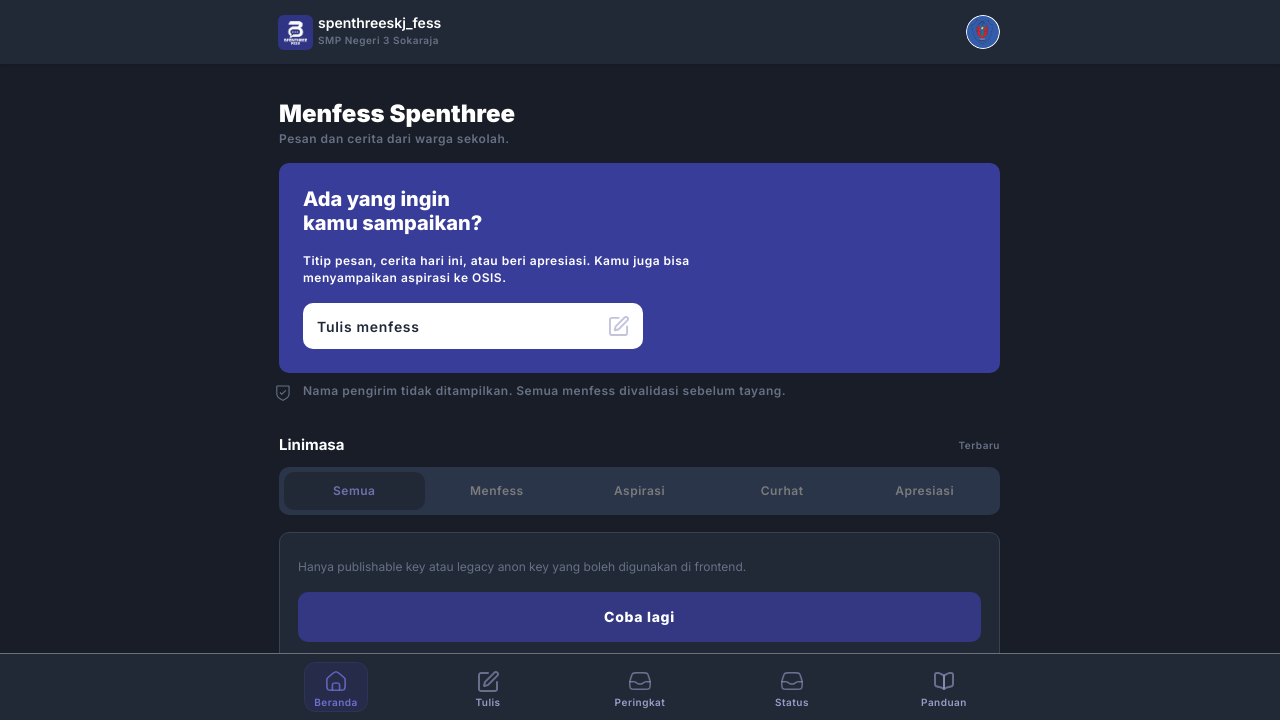
it: foundation routes › navigates using the primary links
This screenshot has width=1280, height=720.
Click the link to "/write" at [488, 689], box [475,670,501,708]
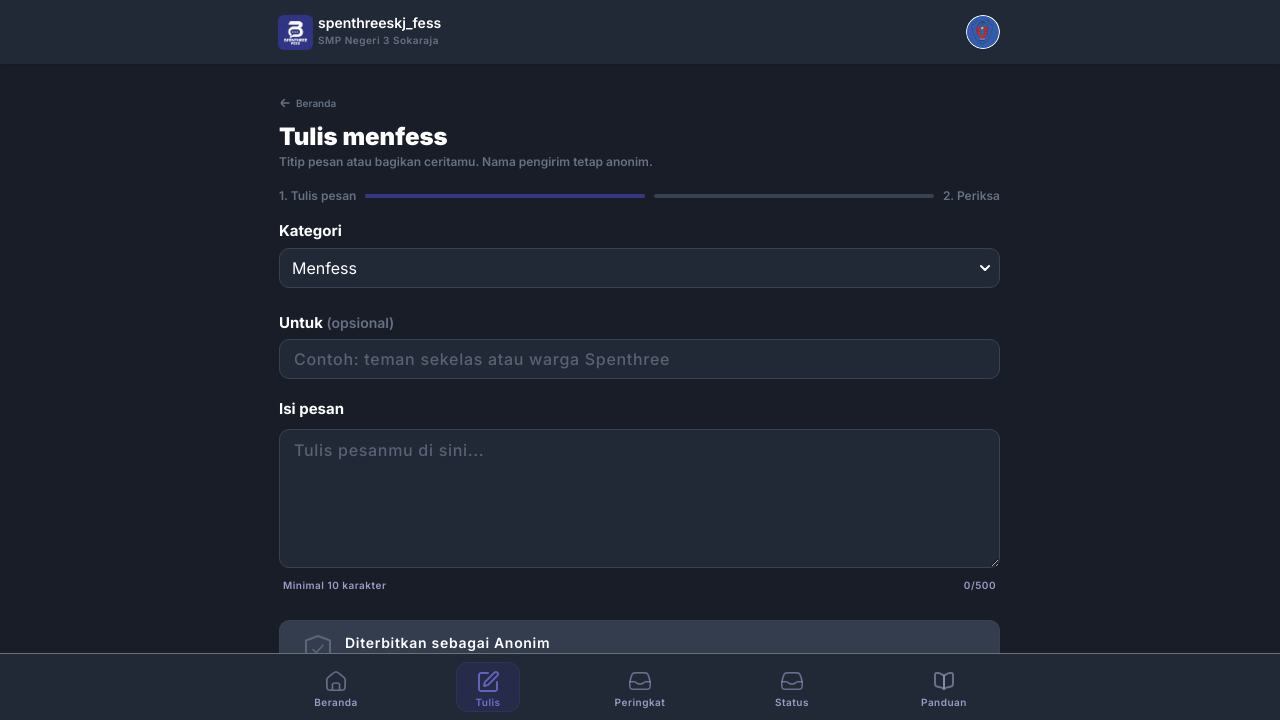
Expected: the heading "Tulis menfess" is shown, [279,122,448,151]
Click the link "Status" at [792, 690], box [775,672,809,708]
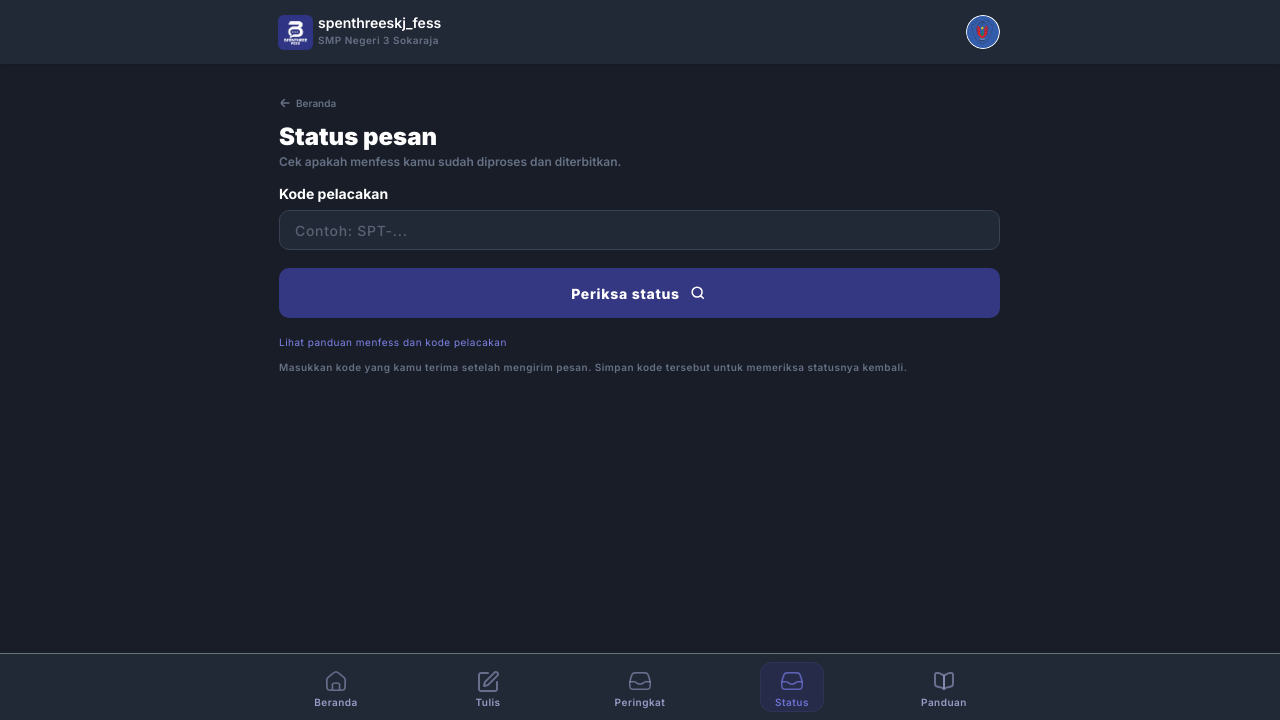
Expected: the heading "Status pesan" is shown, [279,122,437,151]
